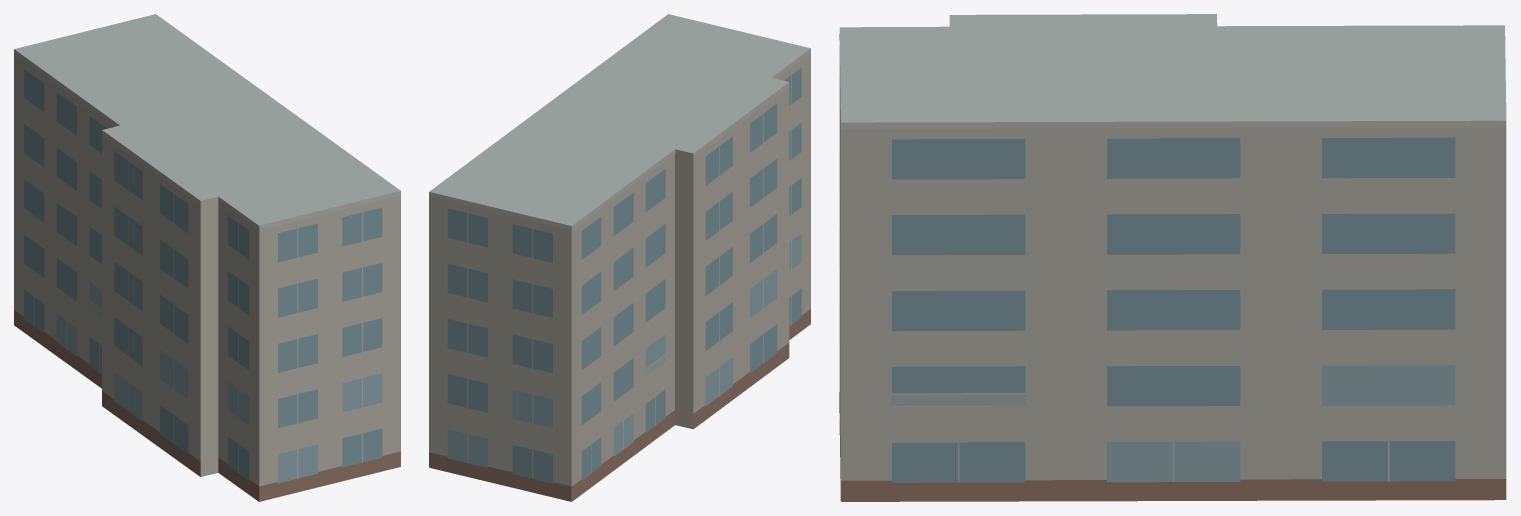
Rendered from survey-upis-32835983.glb.
3 renders of one model, left to right at view 1: azimuth 30°, elevation 25°; view 2: azimuth 150°, elevation 25°; view 3: azimuth 270°, elevation 25°, orthographic. The views are drawn at different scales.
Visible parts, largest first — view 1: survey-upis-32835983.tmp; view 2: survey-upis-32835983.tmp; view 3: survey-upis-32835983.tmp.
Boxes of the visible parts, x1,y1,x2,y2 form: survey-upis-32835983.tmp: (14,14,400,501); survey-upis-32835983.tmp: (429,14,810,501); survey-upis-32835983.tmp: (839,14,1506,501).
Bounding box in the file's own units: 8.96 × 14.55 × 23.19.
